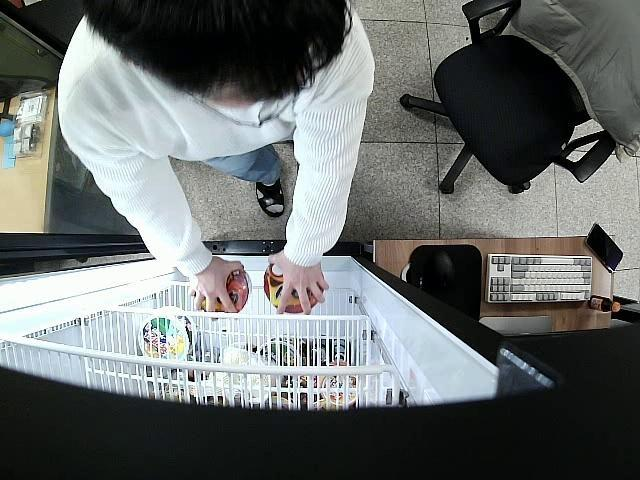05_nuguri_L: (262, 263, 324, 314), (193, 268, 250, 313)
